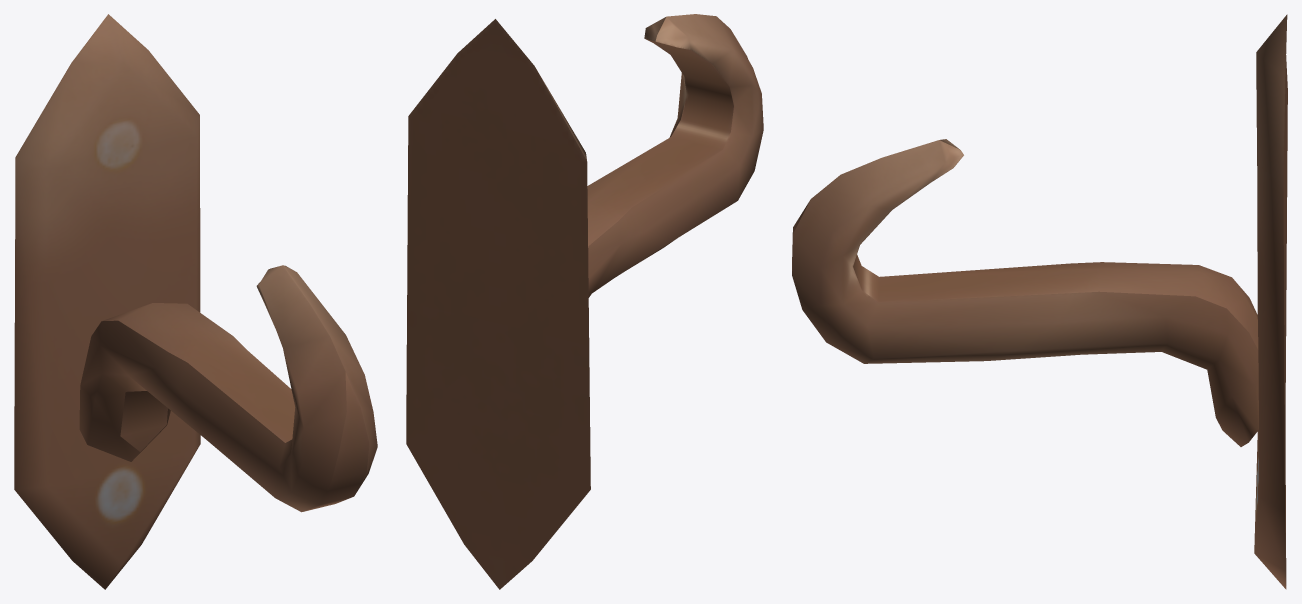
Rendered from SM_Potion_Props_Hook_03.fbx.
3 renders of one model, left to right at view 1: azimuth 30°, elevation 25°; view 2: azimuth 150°, elevation 25°; view 3: azimuth 270°, elevation 25°, orthographic.
Visible parts, largest first — view 1: SM_Potion_Props_Hook_03_LOD0; view 2: SM_Potion_Props_Hook_03_LOD0; view 3: SM_Potion_Props_Hook_03_LOD0.
Boxes of the visible parts, box(x1,y1,x2,y2) form: SM_Potion_Props_Hook_03_LOD0: box(14, 14, 377, 589); SM_Potion_Props_Hook_03_LOD0: box(406, 14, 763, 589); SM_Potion_Props_Hook_03_LOD0: box(792, 14, 1287, 589).
Size of what is drawn, in the model's own units: 10.94 by 32.26 by 25.09.
